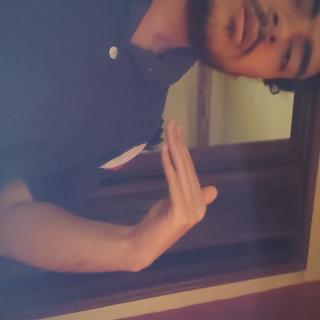KHAA: (84, 131, 212, 273)
